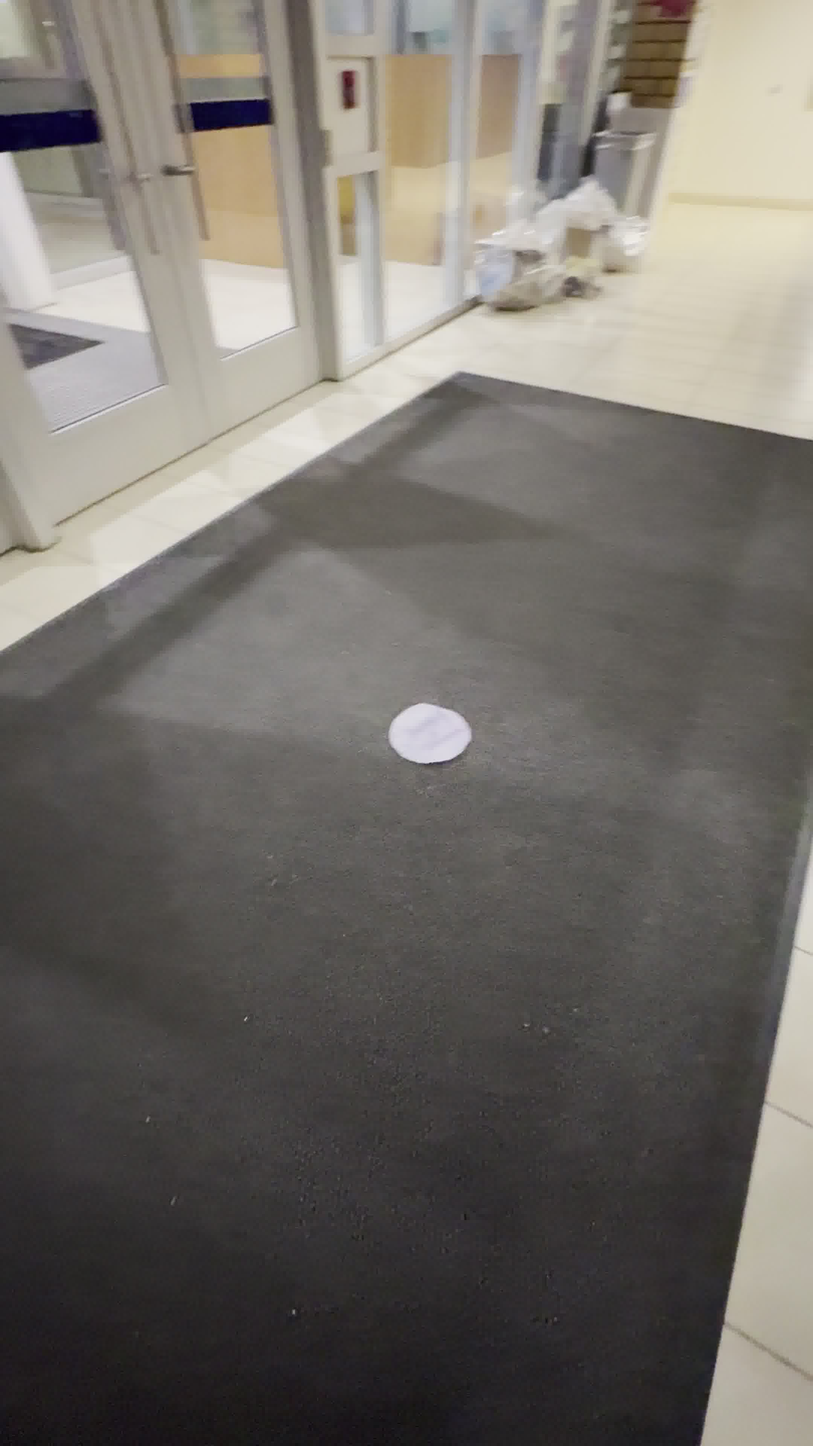Target: (388, 702, 472, 765)
